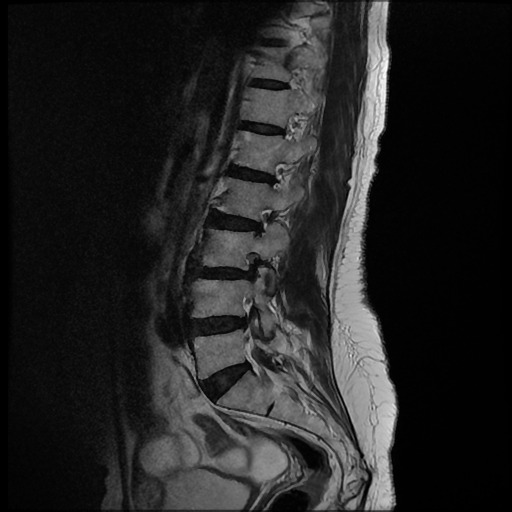RFS2: (245, 197, 280, 244)
